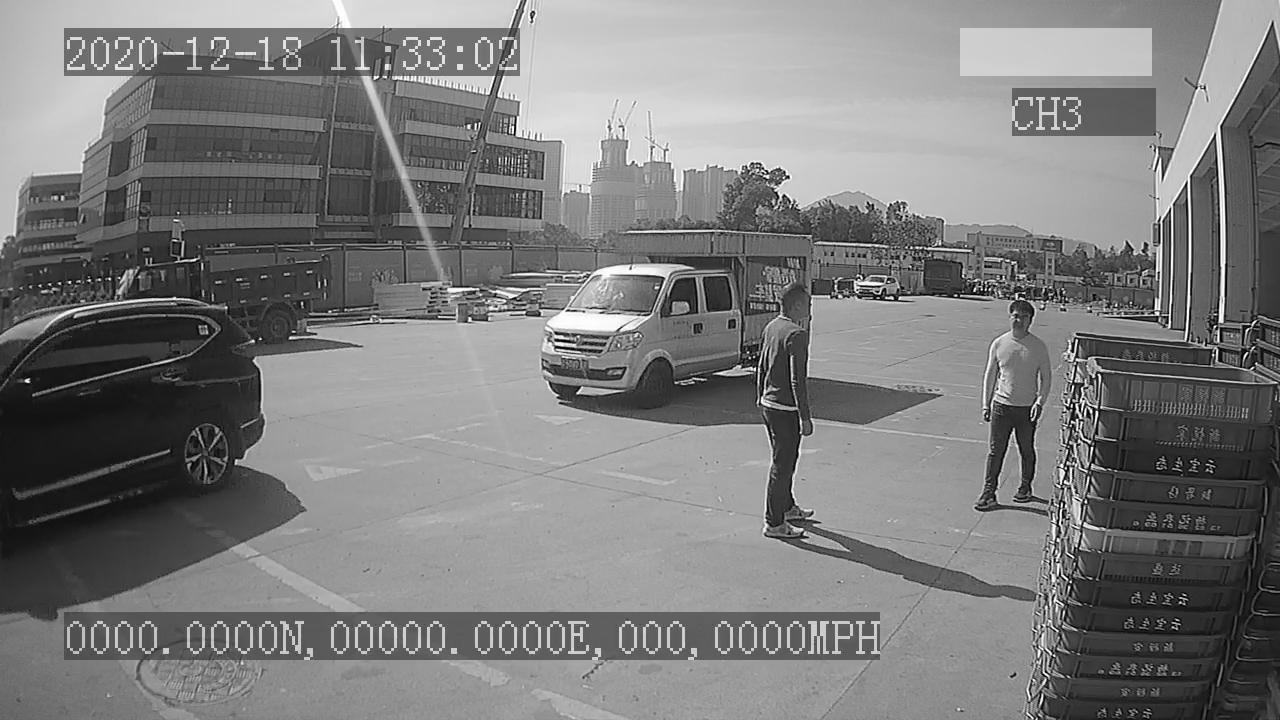person: (974, 294, 1053, 509)
